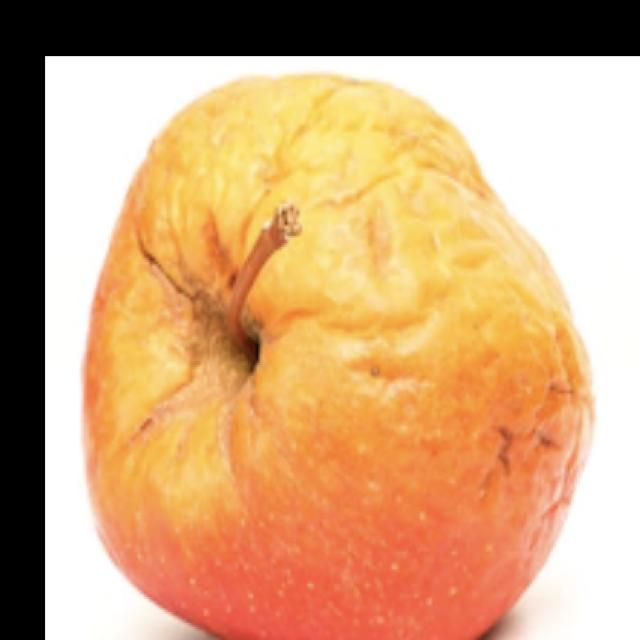Rotten: (93, 78, 586, 640)
